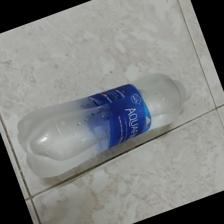Aquafina: (15, 69, 187, 176)
